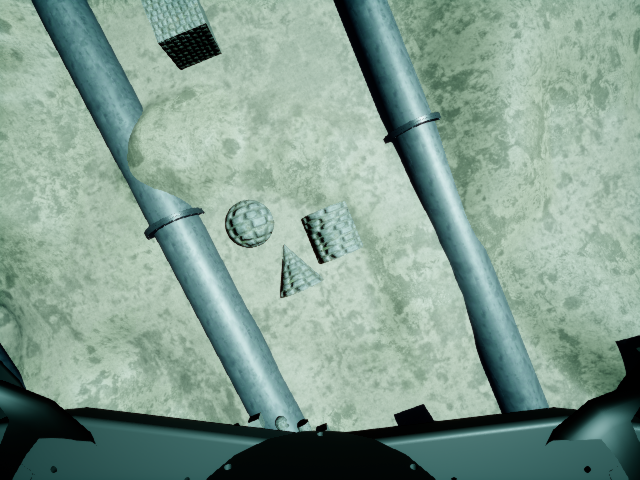cone: (251, 240, 334, 303)
cylinder: (296, 202, 366, 266)
sphere: (219, 197, 279, 247)
